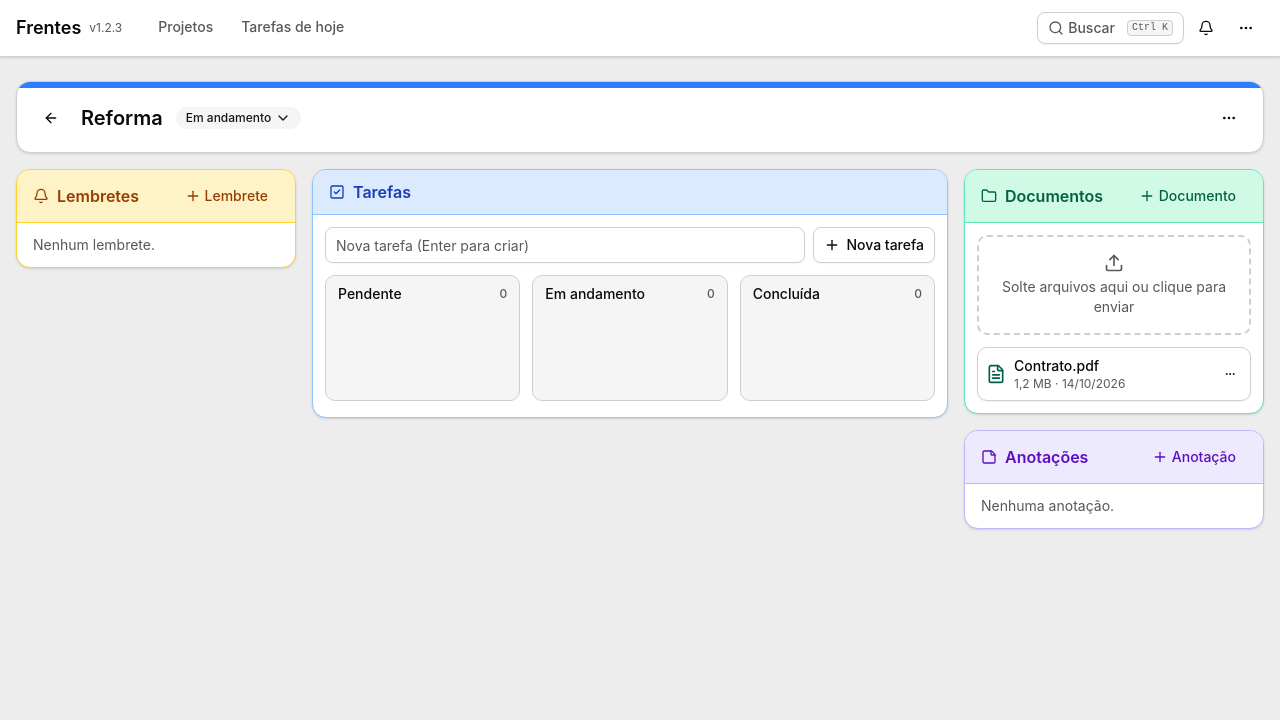
Scenario: Renomear e excluir (RN-72, RN-90) › Renomear abre o diálogo com o nome atual e envia o PATCH
Step 1. Click the button named "Ações de Contrato.pdf" → (1230, 374), box [1218,362,1242,386]
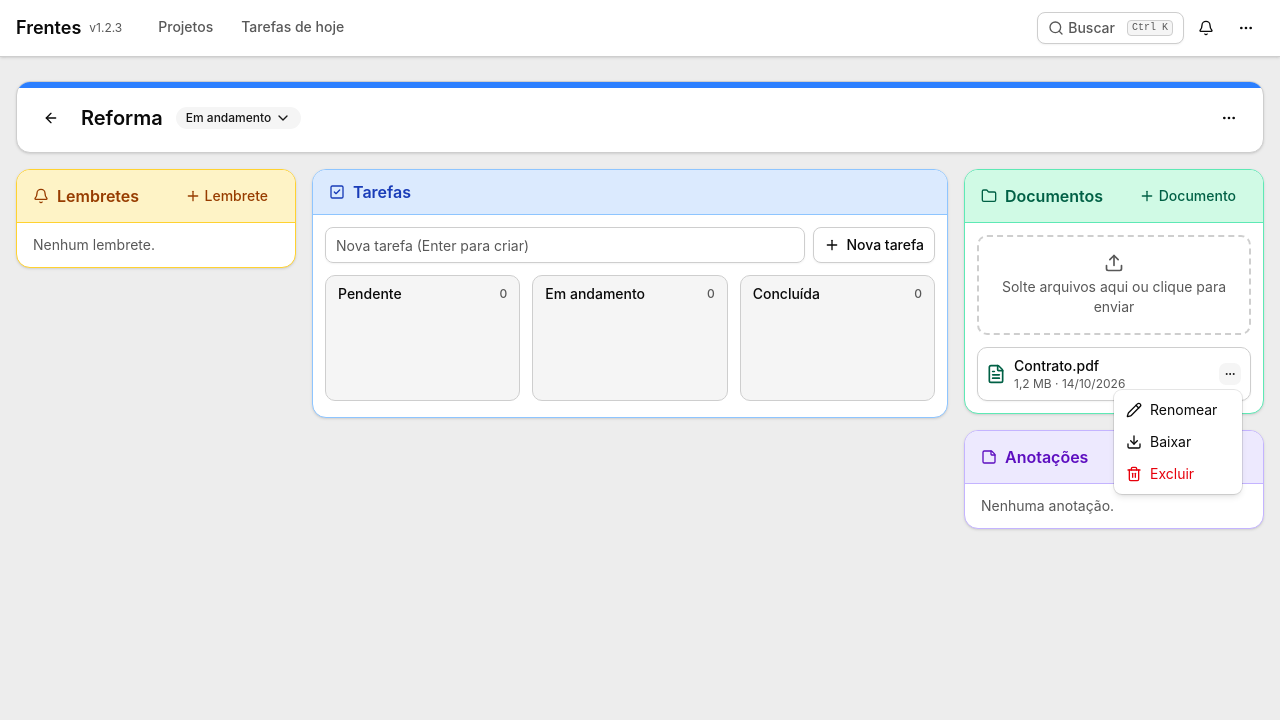
Step 2. Click the menu item "Renomear" → (1172, 410), box [1126,401,1217,418]
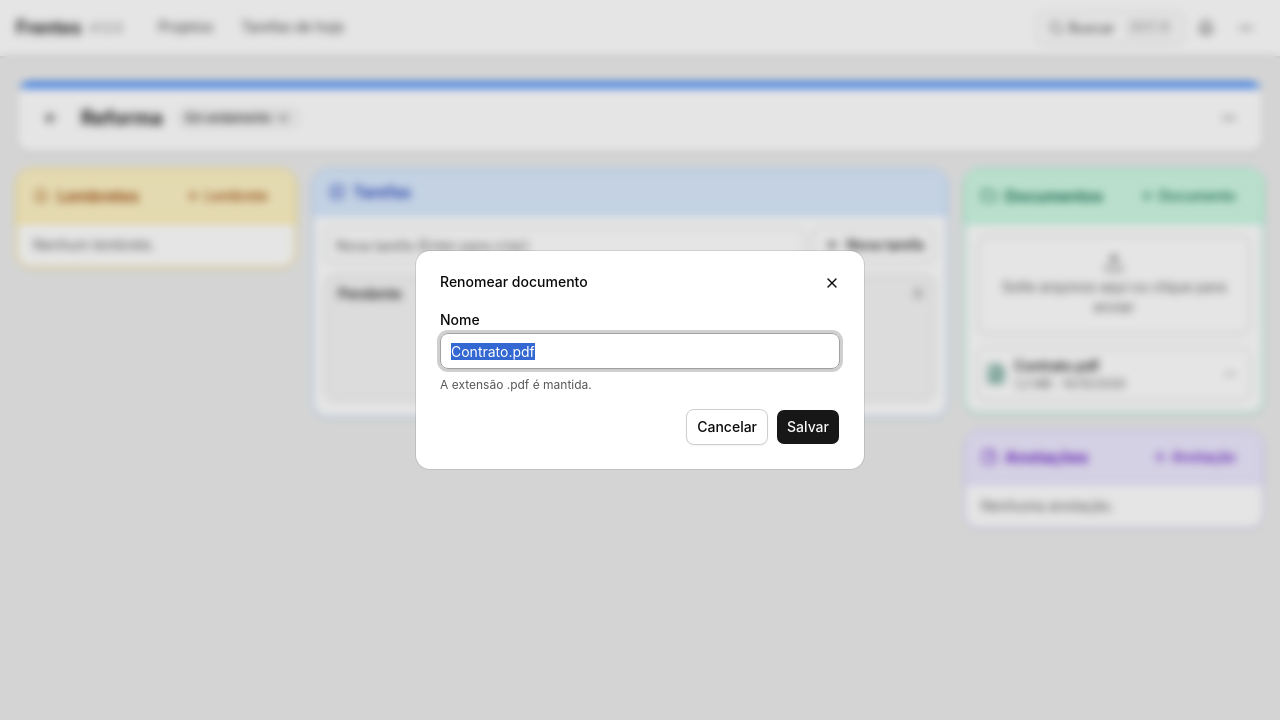
Now the text "A extensão .pdf é mantida." is shown, box [440,377,592,392]
Now the field labelled "Nome" holds "Contrato.pdf"
Step 3. Replace the text in the field labelled "Nome" with "Novo" → (640, 351), box [440,333,840,369]
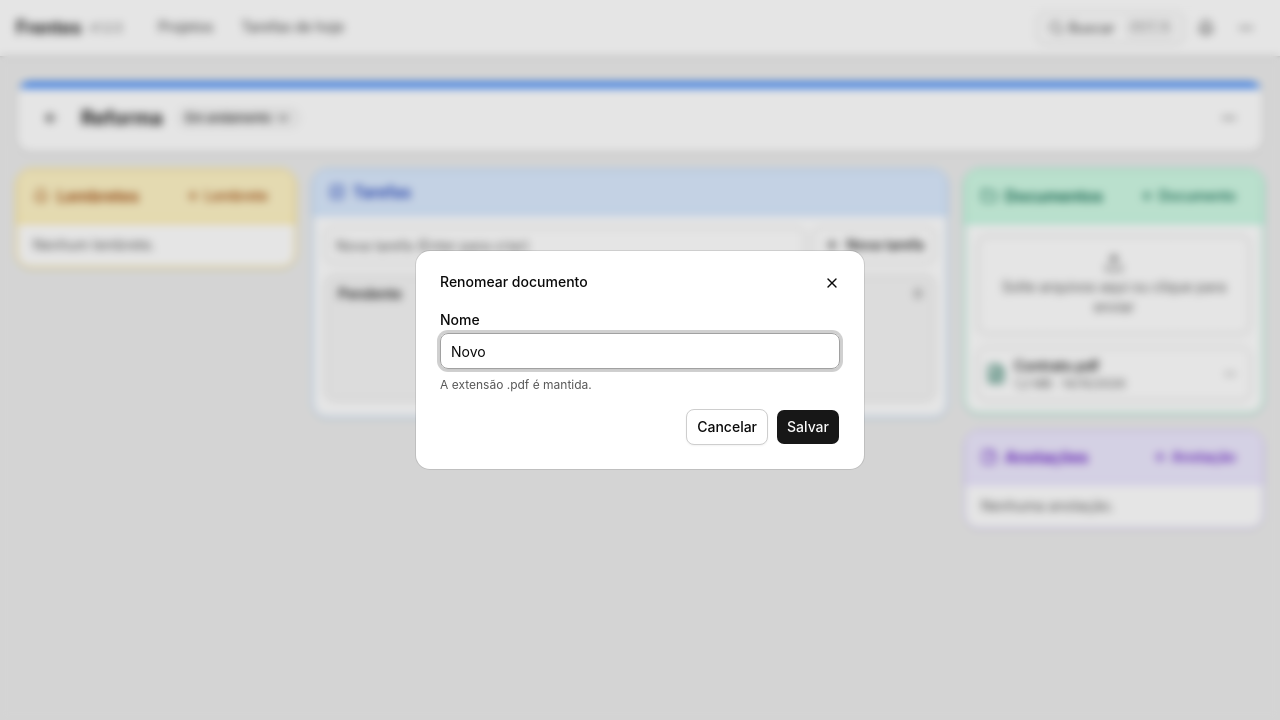
Step 4. Click the button "Salvar" → (808, 427), box [776,409,840,445]
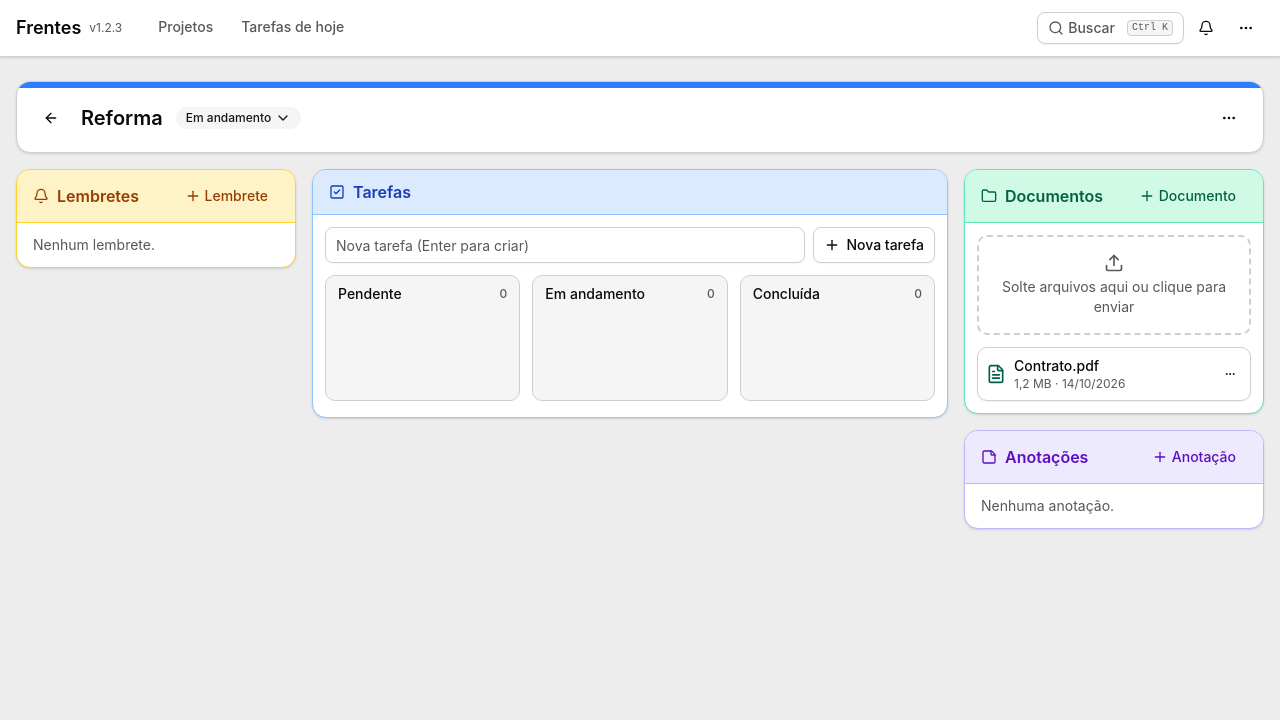
Now the dialog is gone
